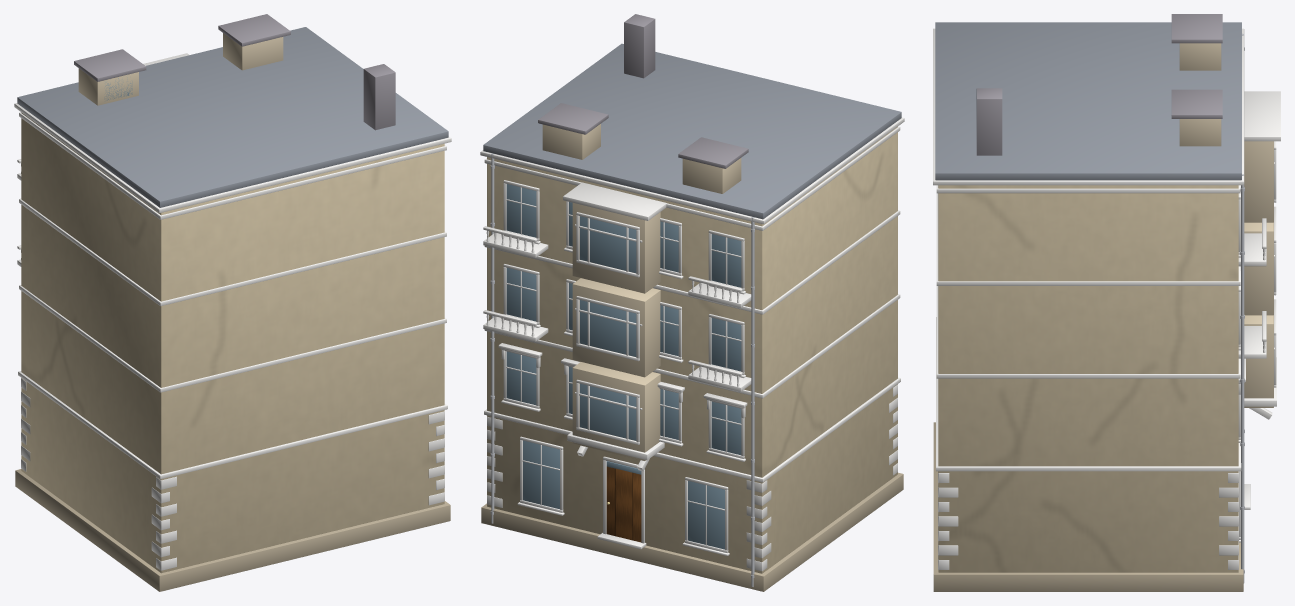
File: th37_altbau.glb
3 renders of one model, left to right at view 1: azimuth 30°, elevation 25°; view 2: azimuth 150°, elevation 25°; view 3: azimuth 270°, elevation 25°, orthographic. The views are drawn at different scales.
Visible parts, largest first — view 1: Cube.001, Cube.177, Cube, Cube.006, Cube.002, Cube.004, Cube.005, Cube.003, Cube.184, Cube.181, Cube.178, Cube.183 (+1 smaller); view 2: Cube.001, Cube.177, Cube, Cube.139, Cube.126, Cube.152, Cube.006, Cube.007, Cube.153, Cube.127, Cube.140, Cube.014 (+27 smaller); view 3: Cube.001, Cube.177, Cube, Cube.006, Cube.152, Cube.002, Cube.139, Cube.168, Cube.005, Cube.003, Cube.184, Cube.004 (+8 smaller).
Part boxes in pixels (<box>): Cube.001: <box>21,112,444,573</box>; Cube.177: <box>17,27,448,207</box>; Cube: <box>15,469,450,591</box>; Cube.006: <box>14,103,451,212</box>; Cube.002: <box>18,371,447,479</box>; Cube.004: <box>19,198,446,306</box>; Cube.005: <box>19,112,446,219</box>; Cube.003: <box>19,285,446,392</box>; Cube.184: <box>363,64,395,130</box>; Cube.181: <box>223,33,283,70</box>; Cube.178: <box>78,68,138,105</box>; Cube.183: <box>218,14,290,46</box>; Cube.001: <box>487,126,897,573</box>; Cube.177: <box>483,43,901,219</box>; Cube: <box>481,472,903,591</box>; Cube.139: <box>572,278,660,377</box>; Cube.126: <box>572,362,660,460</box>; Cube.152: <box>572,203,660,293</box>; Cube.006: <box>480,117,904,224</box>; Cube.007: <box>606,466,641,542</box>; Cube.153: <box>580,216,636,273</box>; Cube.127: <box>580,383,636,440</box>; Cube.140: <box>580,300,636,356</box>; Cube.014: <box>688,481,724,549</box>; Cube.001: <box>938,185,1238,572</box>; Cube.177: <box>935,22,1241,180</box>; Cube: <box>933,422,1243,591</box>; Cube.006: <box>933,28,1244,185</box>; Cube.152: <box>1244,141,1273,222</box>; Cube.002: <box>936,317,1241,471</box>; Cube.139: <box>1244,222,1273,315</box>; Cube.168: <box>1244,91,1280,141</box>; Cube.005: <box>936,185,1240,193</box>; Cube.003: <box>936,286,1240,378</box>; Cube.184: <box>976,88,1002,155</box>; Cube.004: <box>936,193,1240,285</box>.
Bounding box in the file's own units: 11.34 × 16.4 × 10.89.
11 materials, 2 textured.
